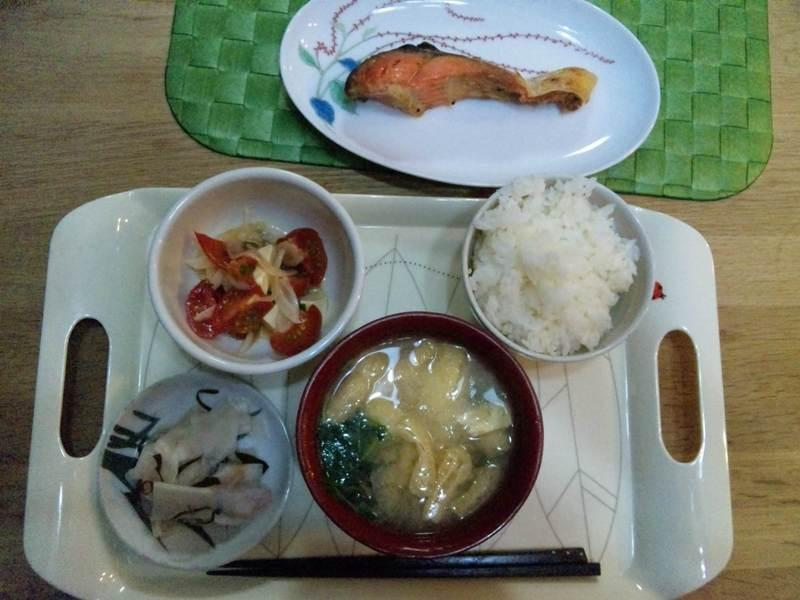plate: (459, 186, 656, 362)
rice: (469, 177, 636, 355)
